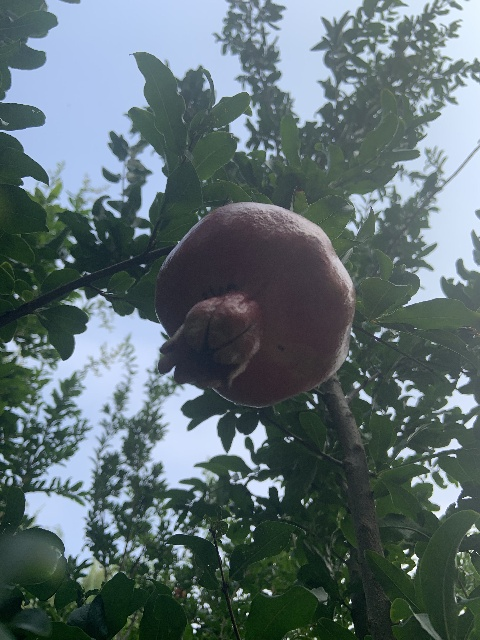ripe: (153, 201, 354, 406)
